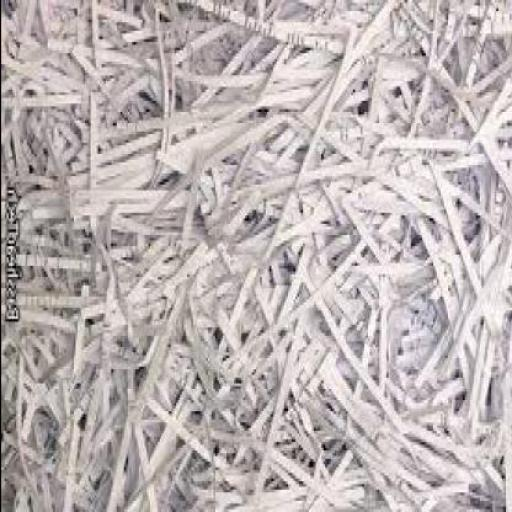paper: (0, 2, 511, 512)
